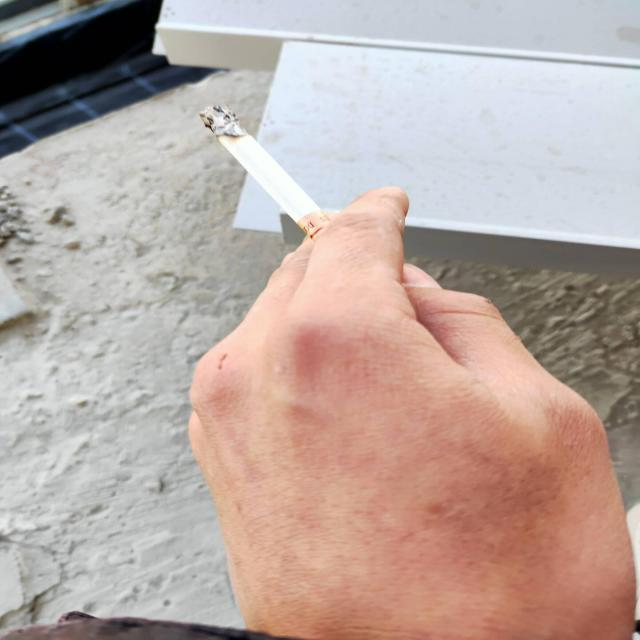rokok: (198, 107, 324, 236)
